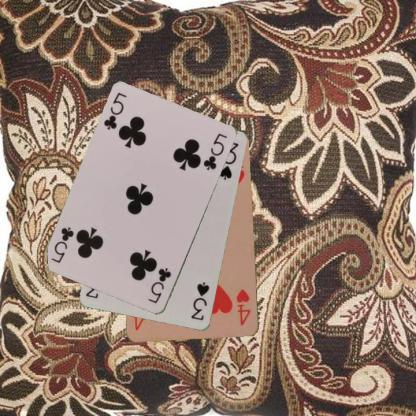3s: (188, 280, 211, 322)
4h: (234, 286, 252, 327)
5c: (101, 90, 128, 132), (145, 265, 173, 305)
